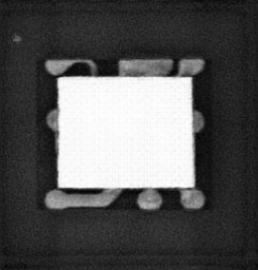DIE_INK: (10, 34, 23, 43)
